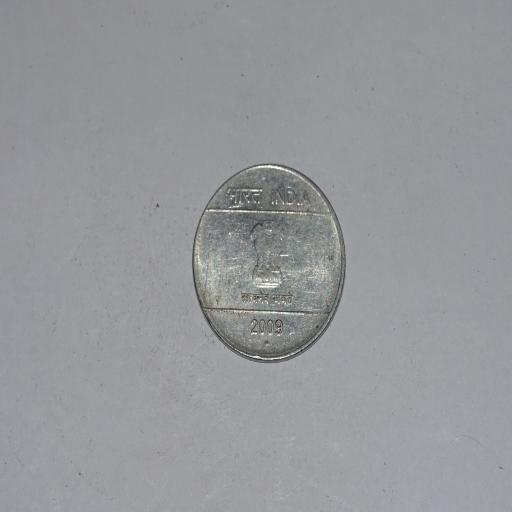rupee1: (191, 163, 346, 362)
